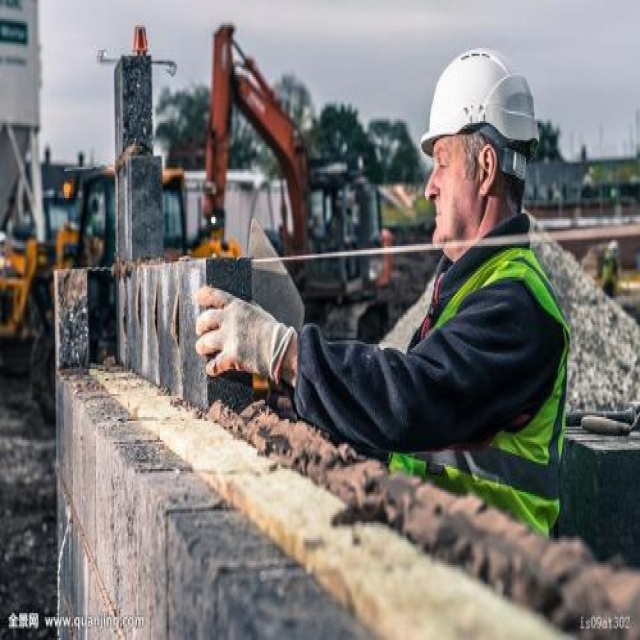Helmet: (399, 22, 561, 284)
Reflective vest: (400, 244, 565, 543)
